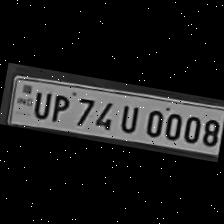0: (159, 106, 187, 142), (139, 104, 166, 138), (178, 111, 202, 145)
4: (89, 95, 117, 131)
7: (68, 92, 94, 128)
8: (197, 114, 221, 148)
P: (45, 90, 71, 124)
U: (113, 99, 142, 134), (26, 86, 51, 120)
